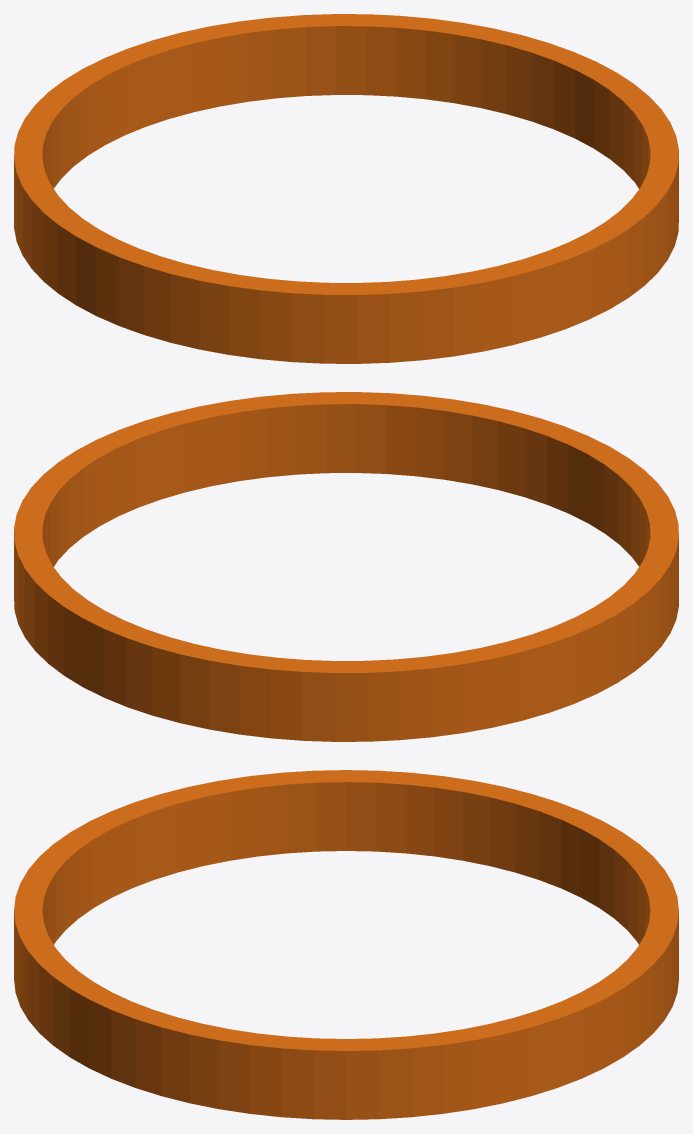
The model's file is ring.dae.
The picture shows the model from 3 angles, top to bottom: view 1: azimuth 30°, elevation 25°; view 2: azimuth 150°, elevation 25°; view 3: azimuth 270°, elevation 25°; orthographic projection.
Parts seen in each view (by area): view 1: ring; view 2: ring; view 3: ring.
Boxes of the visible parts, left/top/right/bottom form: ring: left=14, top=14, right=678, bottom=363; ring: left=14, top=392, right=678, bottom=741; ring: left=14, top=770, right=678, bottom=1119.
Size of the model in its own units: 0.7 by 0.7 by 0.08.
